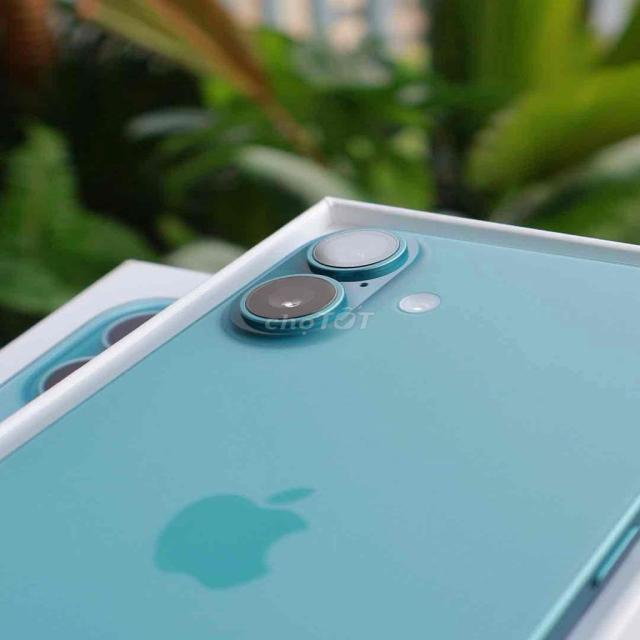gen_16: (0, 221, 640, 640)
